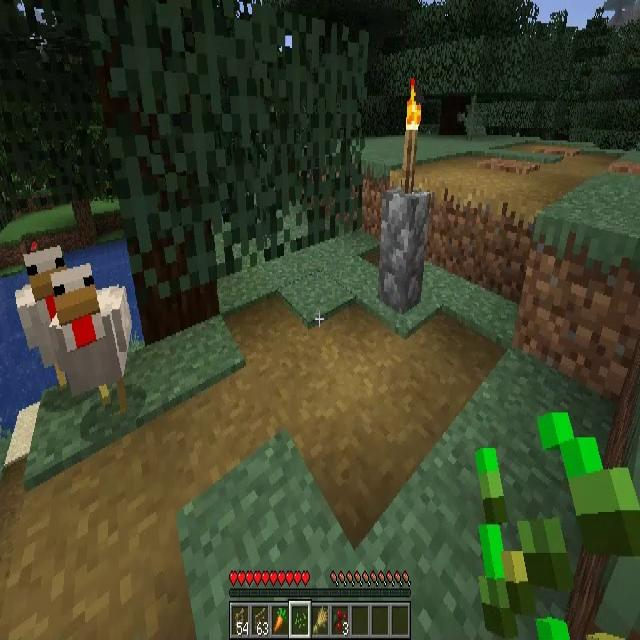duck: (60, 260, 130, 406), (14, 249, 72, 392)
